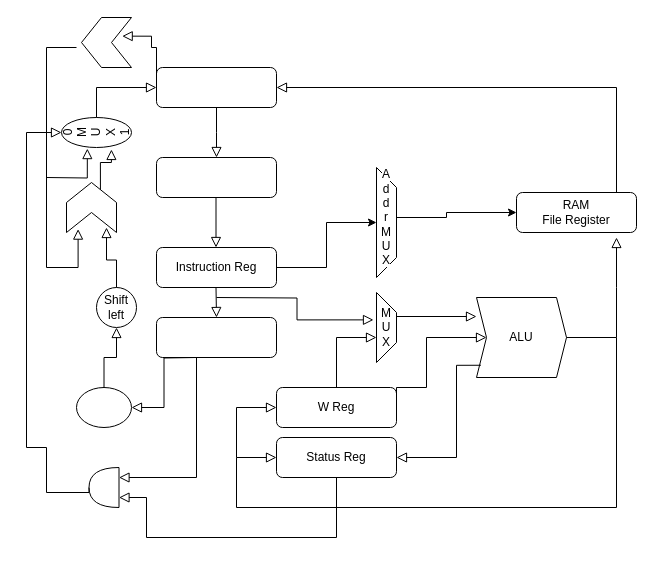
Image size: 654x565. Some labels were removed from this diagram. The box of each missing label's shape, as (x1, y1, x2, y2) in pixels:
Flash Program Memory: (156, 156, 276, 198)
Instruction Decode Control: (156, 316, 276, 358)
PC: (156, 66, 276, 108)
Sign Extend: (76, 386, 132, 428)
